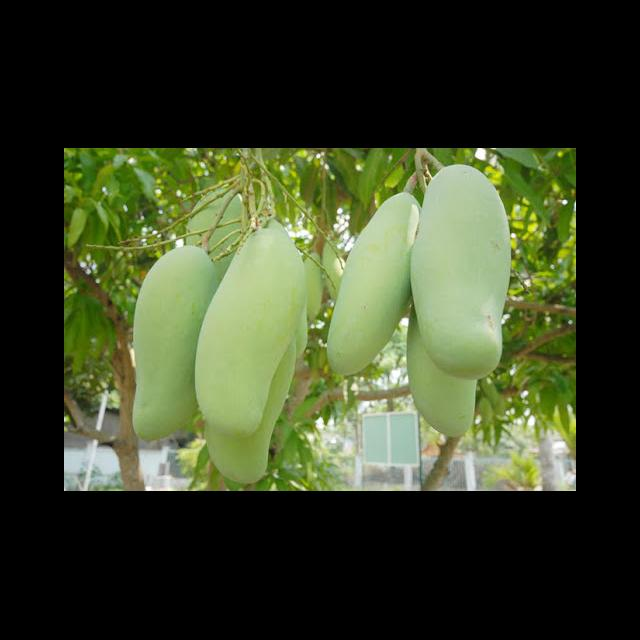xoai: (193, 219, 307, 436), (412, 165, 510, 378), (132, 245, 217, 443), (326, 192, 416, 373)
